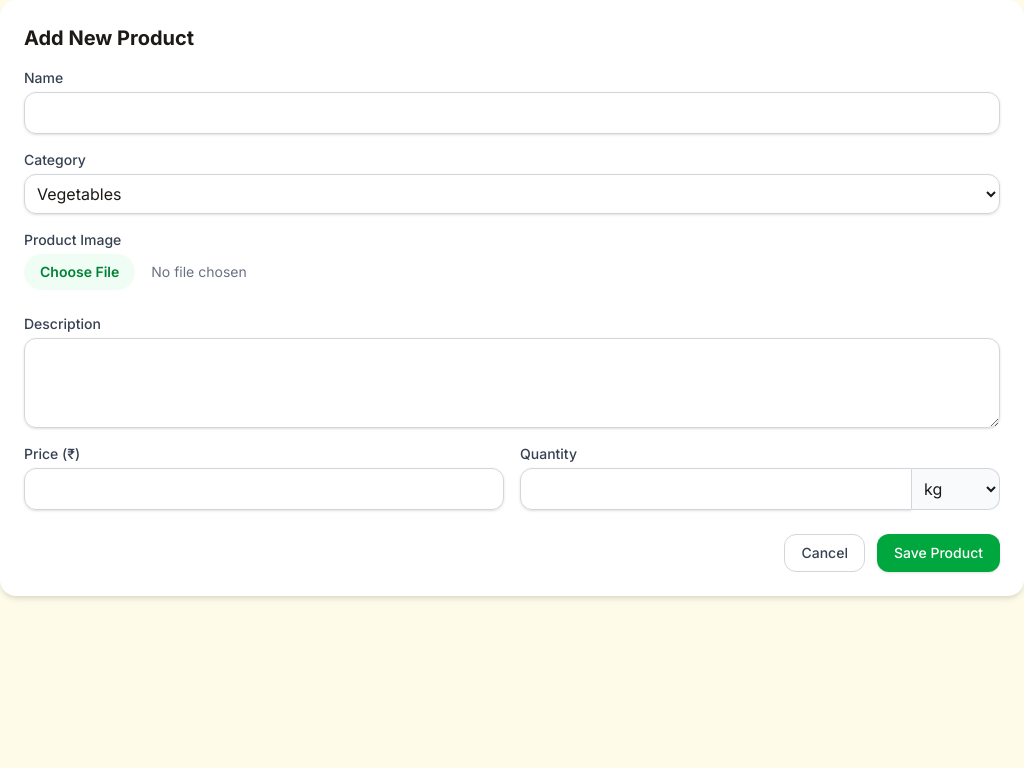
Test: ProductForm › displays error message on submit failure
This screenshot has width=1024, height=768.
Type "Potatoes" into the field labelled "Name". click: (512, 113)
box: 24,92 -> 1000,134
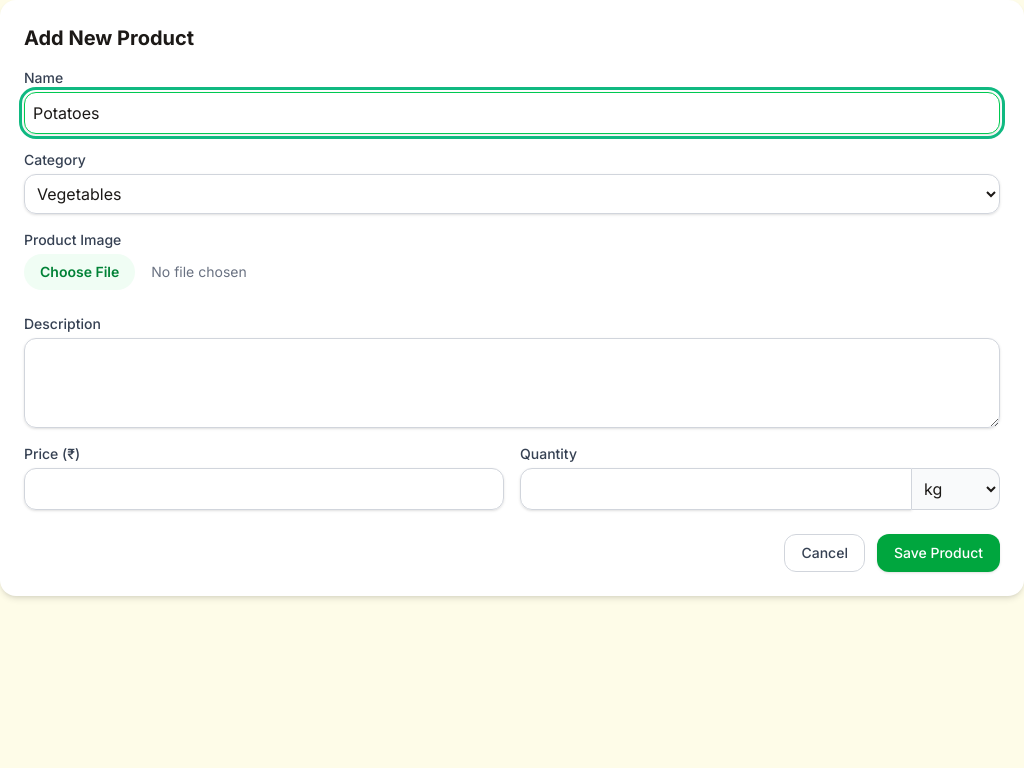
Type "Fresh potatoes" into the text box labelled "Description". click: (512, 383)
box: 24,338 -> 1000,428
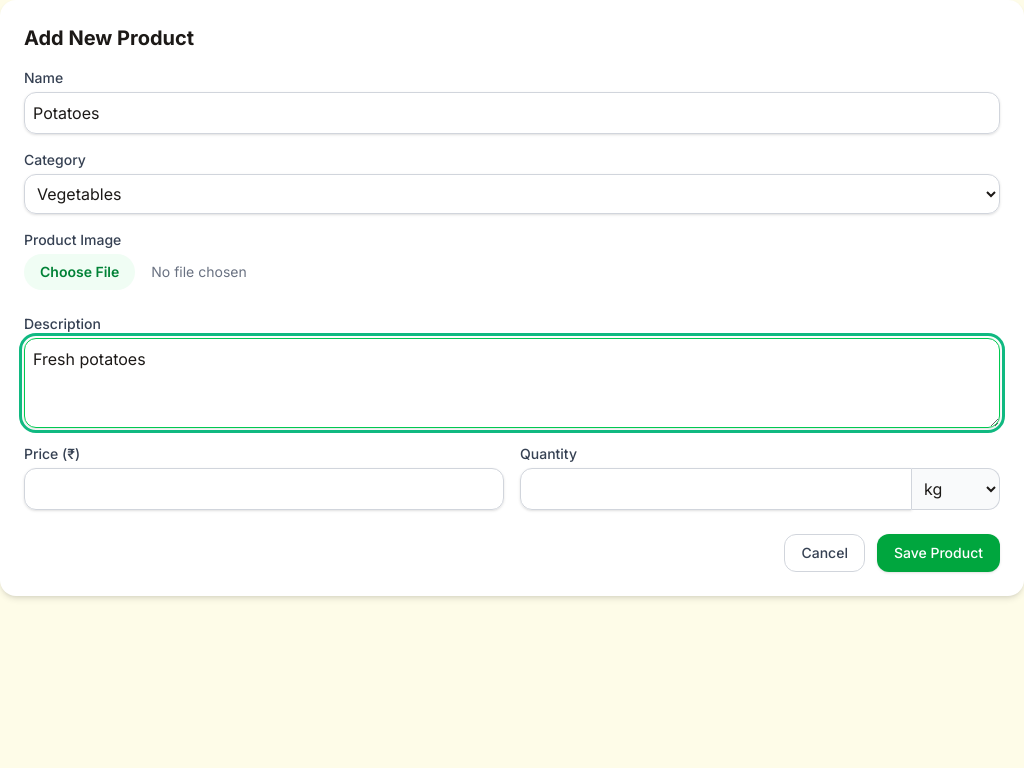
Type "30" into the number field labelled "Price (₹)". click: (264, 489)
box: 24,468 -> 504,510
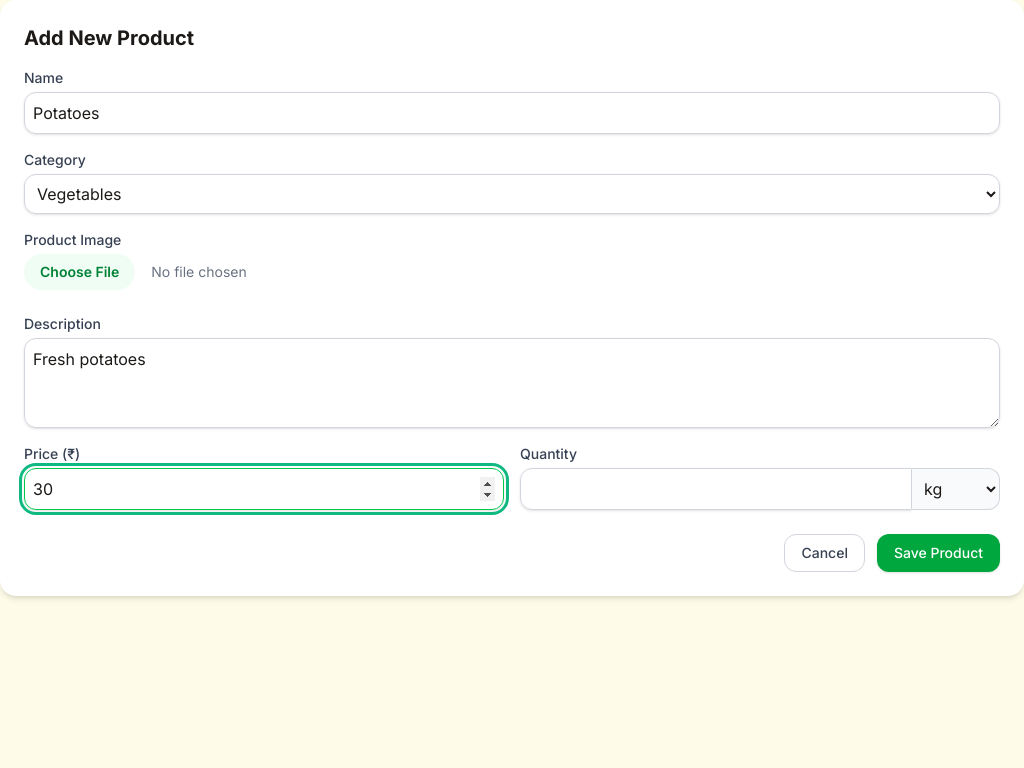
Type "200" into the number field labelled "Quantity". click: (716, 489)
box: 520,468 -> 912,510
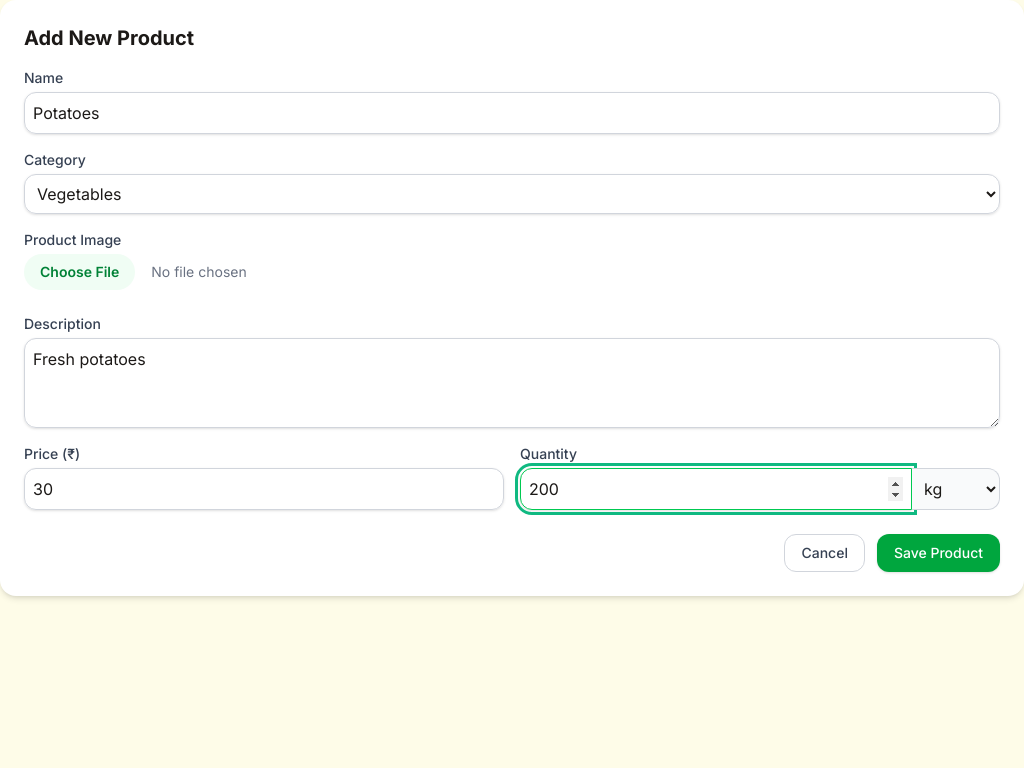
Click the button "Save Product". click: (938, 553)
box: 877,534 -> 1000,572
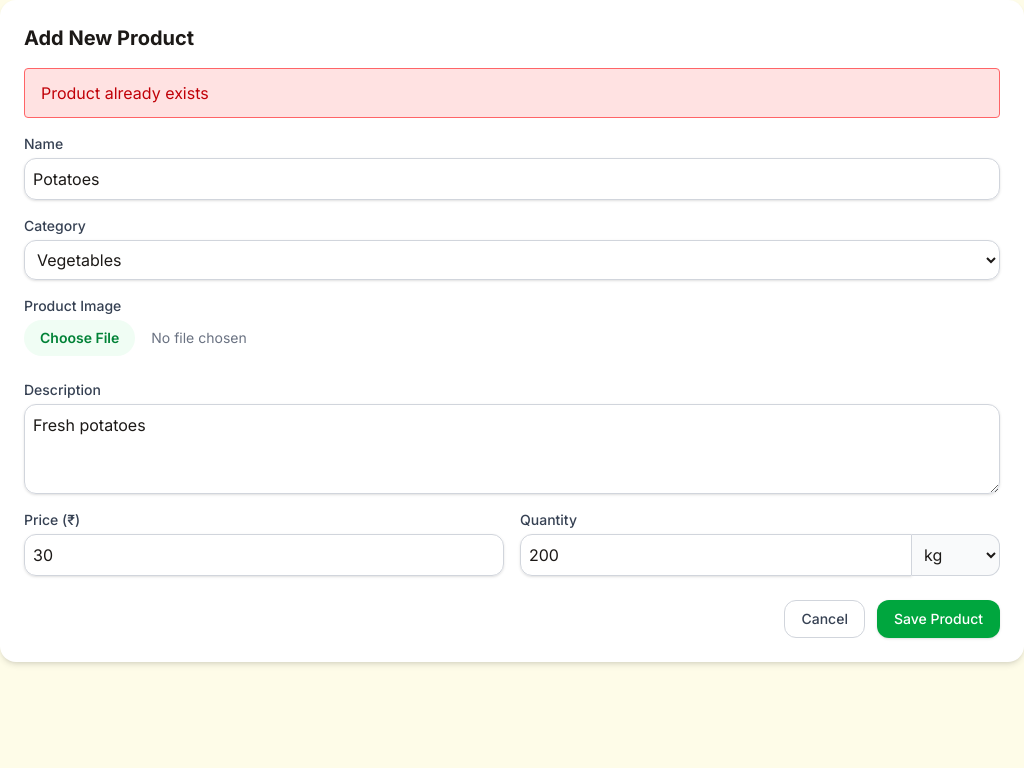
expect the text "Product already exists" is shown: met, box 24,68 -> 1000,118
